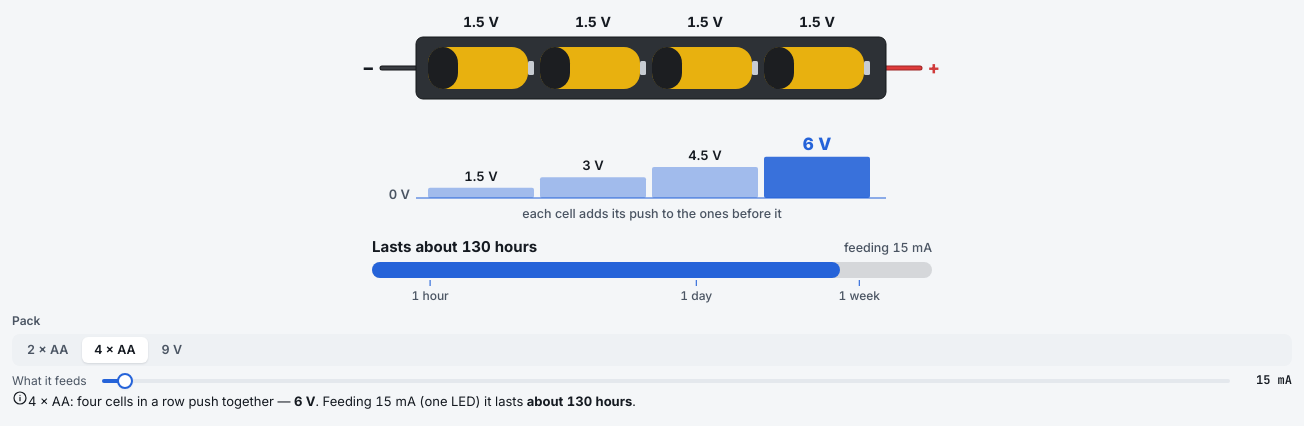
the battery pack, opened › 2 × AA: its cells add up to the simulator's volts, and it lasts what it holds over the current
Click the radio button labelled "2 × AA".
click(48, 350)  # box [15,337,80,363]
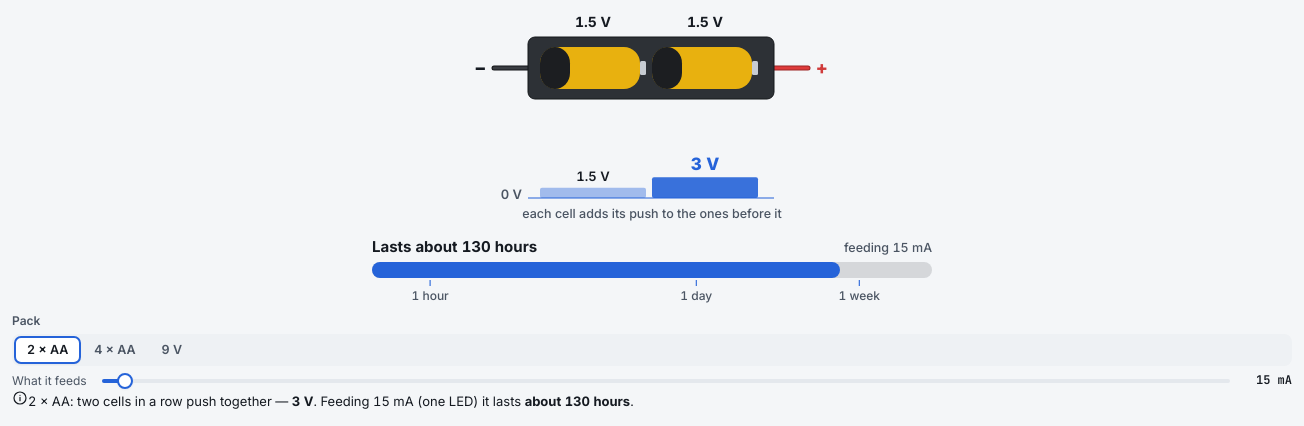
Expected: the text "Feeding 15 mA (one LED) it lasts about 130 hours" is shown, [28,393,634,409]
Expected: the radio button labelled "2 × AA" is checked, [15,337,80,363]
Expected: the text "push together — 3 V." is shown, [28,393,634,409]
